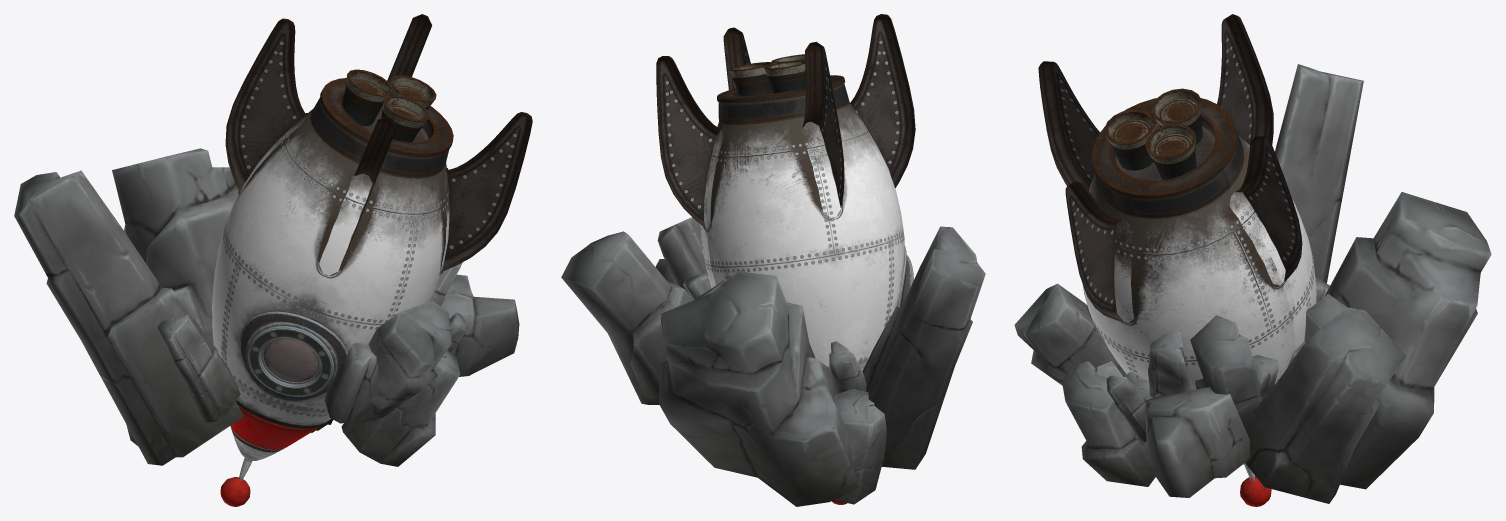
The model's file is spaceship.glb.
3 views of the same model, side by side, from view 1: azimuth 30°, elevation 25°; view 2: azimuth 150°, elevation 25°; view 3: azimuth 270°, elevation 25° (orthographic). The views are drawn at different scales.
Parts seen in each view (by area): view 1: Object_2; view 2: Object_2; view 3: Object_2.
Part boxes in pixels (x1,y1,x2,y2): Object_2: (14, 14, 532, 506); Object_2: (561, 14, 985, 506); Object_2: (1014, 14, 1491, 506).
Size of the model in its own units: 9.47 by 10.04 by 8.52.
Materials: 2 (2 with a texture image).
